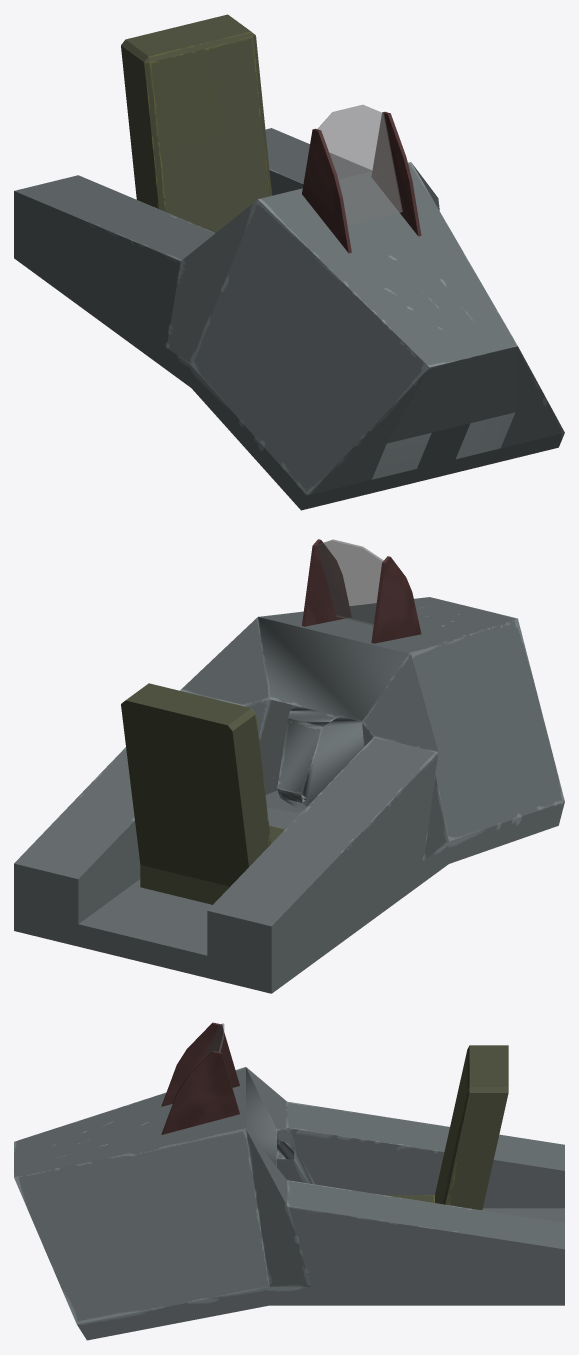
Rendered from cockpit.gltf.
3 renders of one model, top to bottom at view 1: azimuth 30°, elevation 25°; view 2: azimuth 150°, elevation 25°; view 3: azimuth 270°, elevation 25°, orthographic. The views are drawn at different scales.
Visible parts, largest first — view 1: Main frame, Seat, Glass, Visor_frame; view 2: Main frame, Seat, Visor_frame, Glass; view 3: Main frame, Seat, Visor_frame.
Boxes of the visible parts, x1,y1,x2,y2 form: Main frame: [14, 128, 564, 510]; Seat: [121, 14, 271, 232]; Glass: [317, 104, 402, 225]; Visor_frame: [302, 111, 421, 253]; Main frame: [14, 597, 564, 993]; Seat: [121, 683, 284, 904]; Visor_frame: [302, 539, 421, 643]; Glass: [317, 539, 383, 625]; Main frame: [14, 1067, 564, 1340]; Seat: [384, 1045, 508, 1210]; Visor_frame: [161, 1022, 239, 1134].
Size of the model in its own units: 0.3156 by 0.3639 by 0.7021.
Materials: 4 (4 with a texture image).
